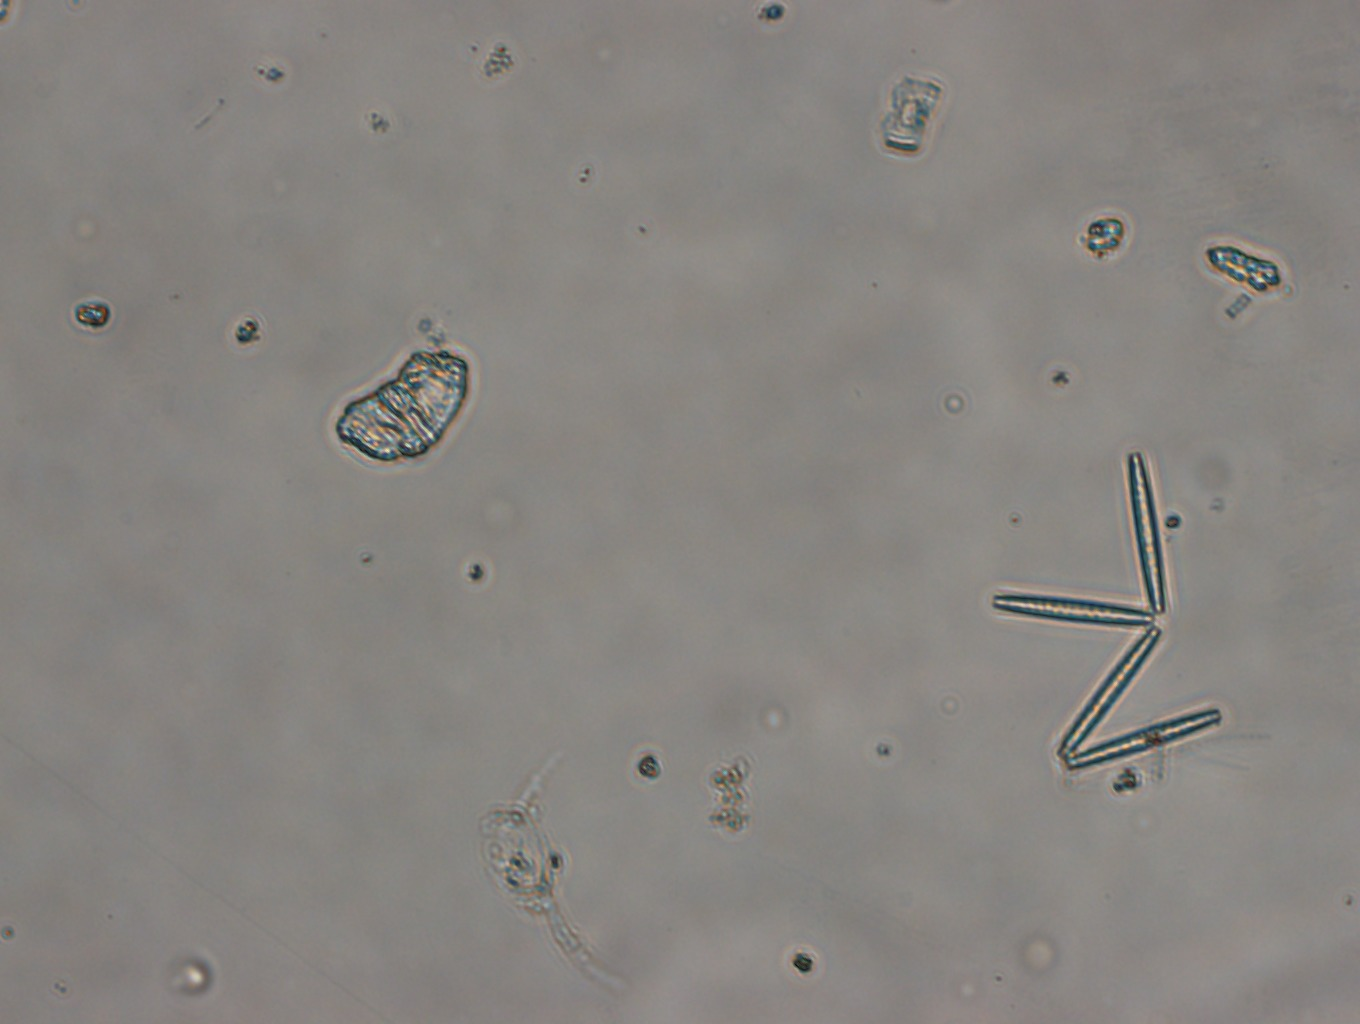thalassionema nitzschioides: (990, 445, 1221, 769)
